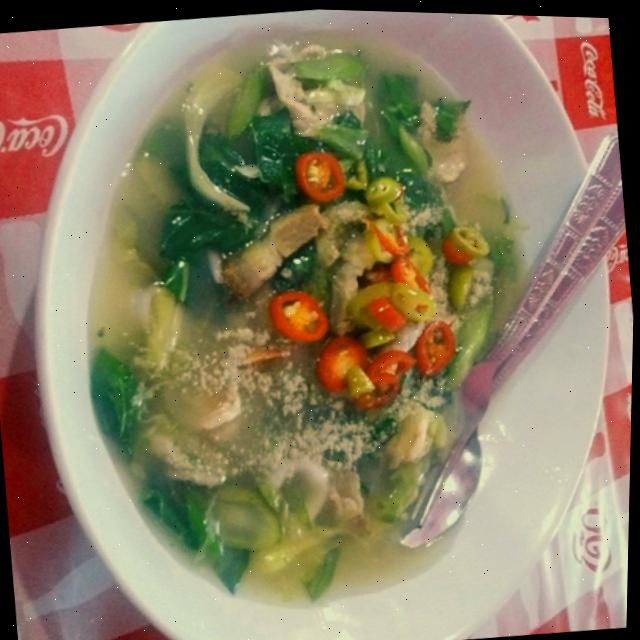面条主食: (10, 0, 640, 640)
